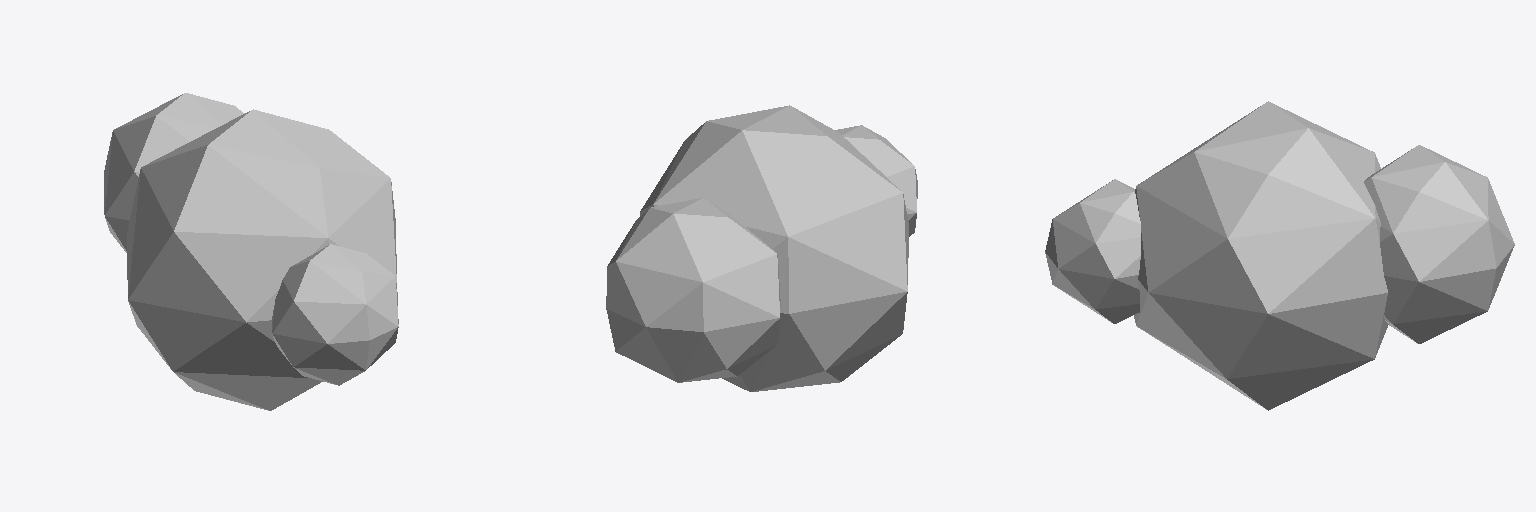
The model's file is cloud.obj.
The picture shows the model from 3 angles: view 1: azimuth 30°, elevation 25°; view 2: azimuth 150°, elevation 25°; view 3: azimuth 270°, elevation 25°; orthographic projection.
Parts seen in each view (by area): view 1: Icosphere_Icosphere.001; view 2: Icosphere_Icosphere.001; view 3: Icosphere_Icosphere.001.
Part boxes in pixels (x1,y1,x2,y2): Icosphere_Icosphere.001: (104,93,398,410); Icosphere_Icosphere.001: (606,105,917,391); Icosphere_Icosphere.001: (1045,101,1514,410).
Size of the model in its own units: 2.09 by 1.99 by 3.17.